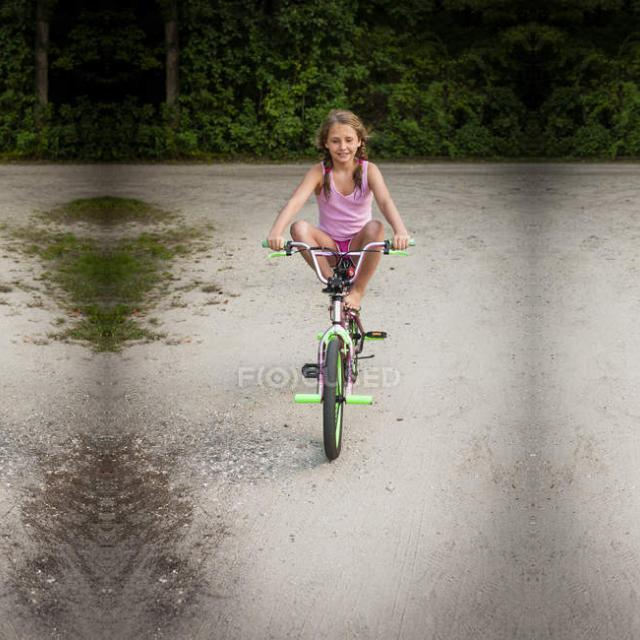obstacle: (259, 231, 431, 465), (634, 231, 640, 465)
